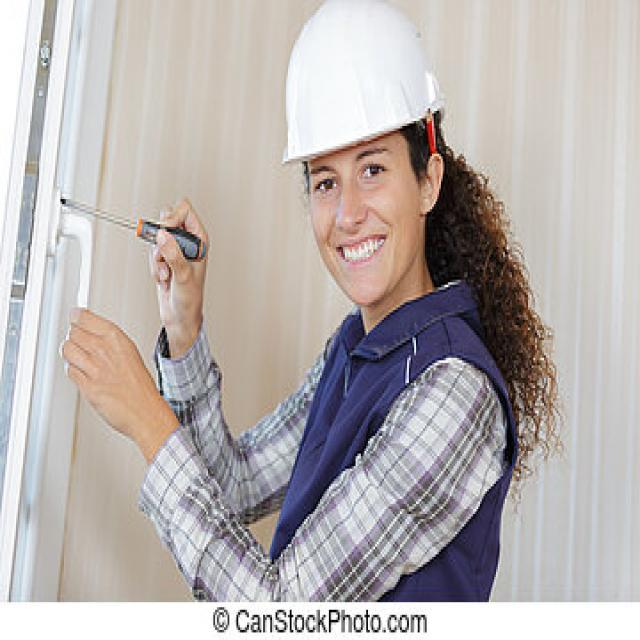screwdriver: (55, 190, 212, 266)
